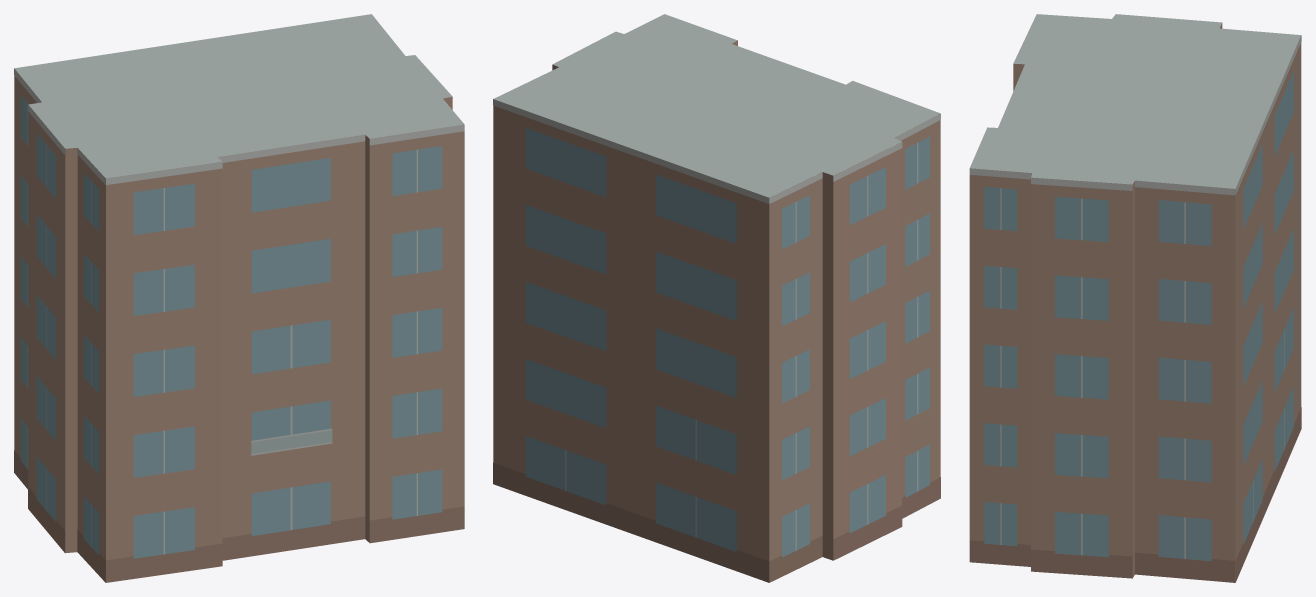
Rendered from survey-upis-32674048.glb.
The picture shows the model from 3 angles, left to right: view 1: azimuth 30°, elevation 25°; view 2: azimuth 150°, elevation 25°; view 3: azimuth 270°, elevation 25°; orthographic projection. The views are drawn at different scales.
Parts seen in each view (by area): view 1: survey-upis-32674048.tmp; view 2: survey-upis-32674048.tmp; view 3: survey-upis-32674048.tmp.
Part boxes in pixels (x1,y1,x2,y2): survey-upis-32674048.tmp: [14, 14, 464, 582]; survey-upis-32674048.tmp: [493, 14, 940, 582]; survey-upis-32674048.tmp: [969, 14, 1301, 582].
Bounding box in the file's own units: 14.11 × 14.8 × 11.31.
